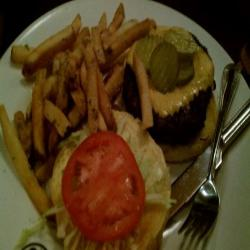burger: (56, 114, 175, 250)
fries: (22, 29, 129, 131)
